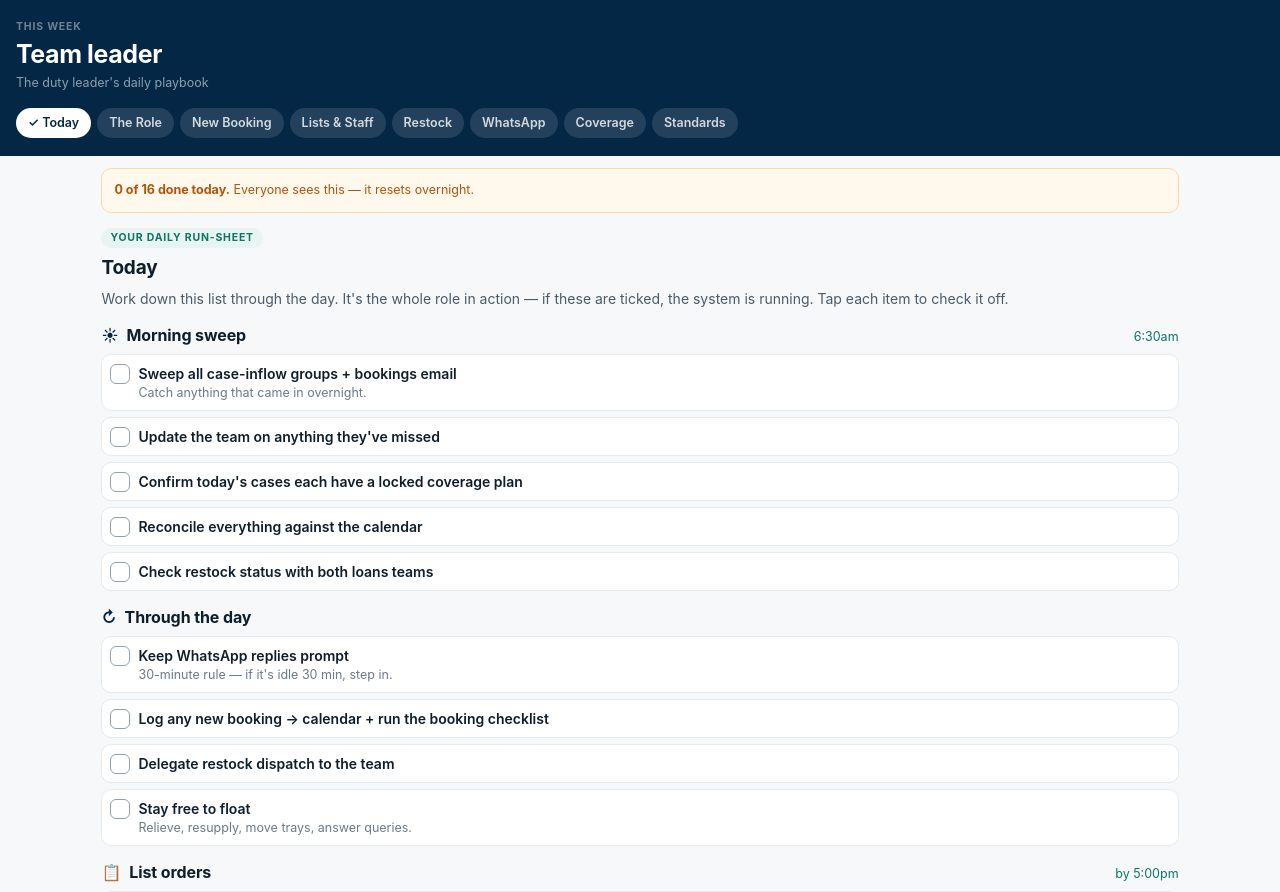
Test: reading the guide › keeps emphasis inside a callout
The image size is (1280, 892).
Step 1. Click the tab "New Booking" → click(232, 123), box [180,108,284,138]
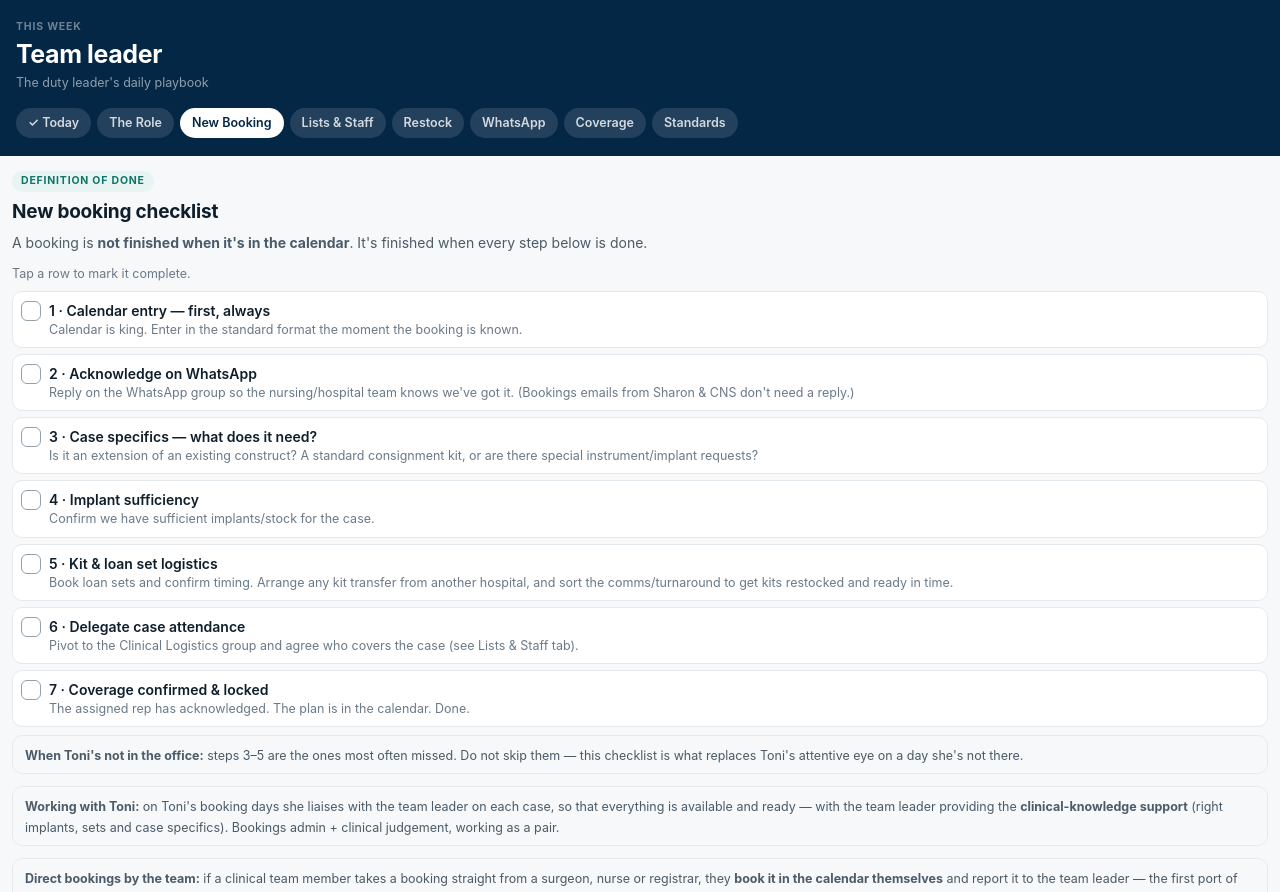
Now the text "When Toni's not in the office:" is shown, box [25,748,204,763]
